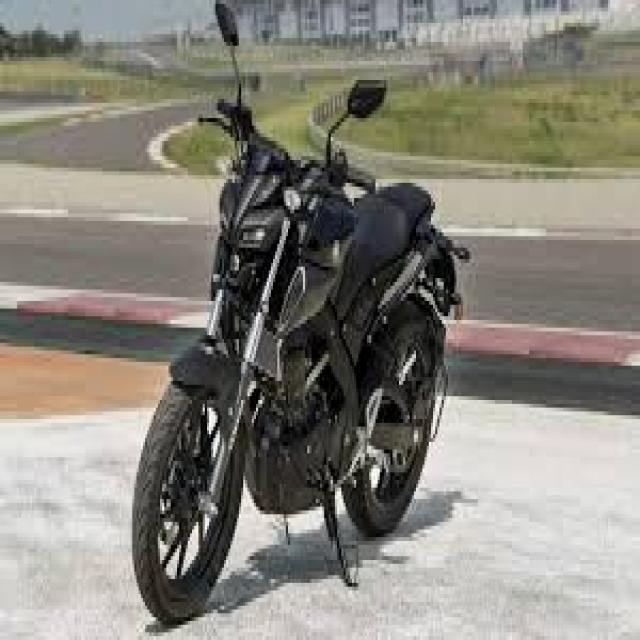MOTORCYCLE: (132, 120, 467, 629)
